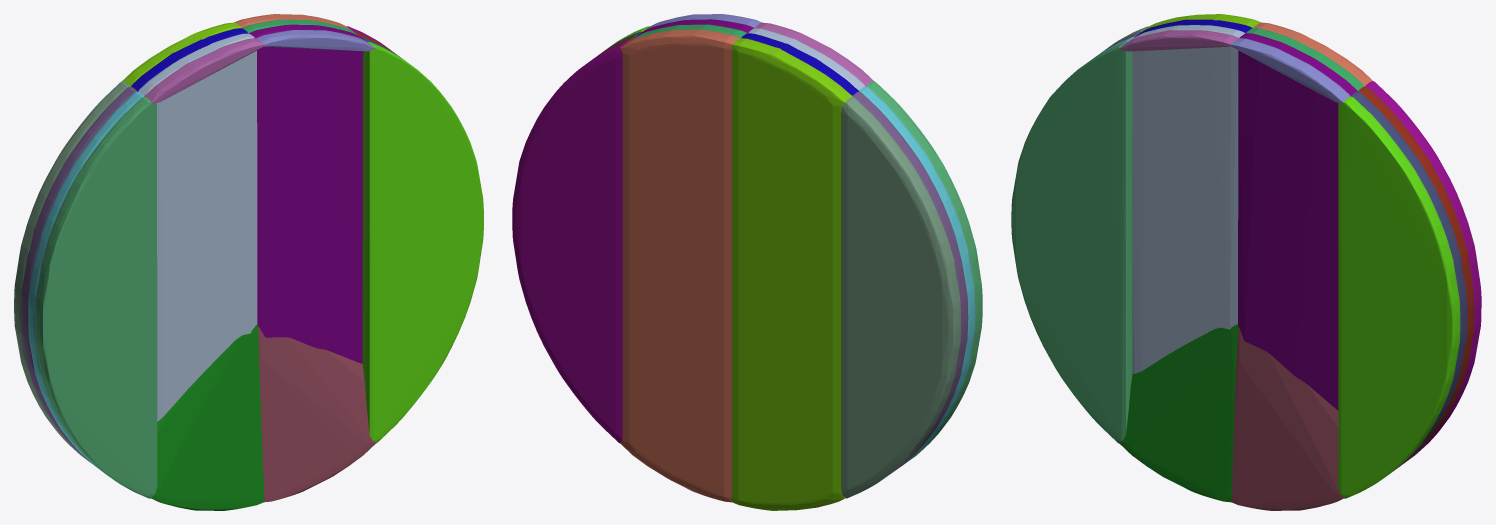
Rendered from forearm_0_split.obj.
The picture shows the model from 3 angles, left to right: view 1: azimuth 30°, elevation 25°; view 2: azimuth 150°, elevation 25°; view 3: azimuth 330°, elevation 25°; orthographic projection.
Parts seen in each view (by area): view 1: geometry_3, geometry_17, geometry_11, geometry_6, geometry_8, geometry_13, geometry_0, geometry_2, geometry_1, geometry_7, geometry_12, geometry_4 (+3 smaller); view 2: geometry_4, geometry_9, geometry_0, geometry_14, geometry_3, geometry_2, geometry_1, geometry_7, geometry_5, geometry_6, geometry_12, geometry_11 (+1 smaller); view 3: geometry_17, geometry_3, geometry_6, geometry_11, geometry_13, geometry_8, geometry_14, geometry_15, geometry_16, geometry_12, geometry_7, geometry_9 (+3 smaller).
Boxes of the visible parts, bbox=[...] form: geometry_3: bbox=[35, 96, 157, 498]; geometry_17: bbox=[362, 42, 483, 443]; geometry_11: bbox=[248, 24, 366, 363]; geometry_6: bbox=[138, 33, 257, 421]; geometry_8: bbox=[151, 324, 264, 510]; geometry_13: bbox=[258, 326, 375, 502]; geometry_0: bbox=[14, 81, 129, 458]; geometry_2: bbox=[28, 91, 143, 468]; geometry_1: bbox=[21, 86, 136, 463]; geometry_7: bbox=[144, 38, 263, 103]; geometry_12: bbox=[256, 30, 375, 51]; geometry_4: bbox=[122, 22, 241, 86]; geometry_4: bbox=[732, 38, 852, 510]; geometry_9: bbox=[620, 29, 740, 502]; geometry_0: bbox=[841, 97, 960, 498]; geometry_14: bbox=[512, 42, 627, 443]; geometry_3: bbox=[866, 81, 982, 459]; geometry_2: bbox=[859, 86, 975, 464]; geometry_1: bbox=[852, 91, 968, 469]; geometry_7: bbox=[755, 22, 873, 86]; geometry_5: bbox=[741, 33, 859, 95]; geometry_6: bbox=[748, 28, 864, 90]; geometry_12: bbox=[644, 14, 761, 30]; geometry_11: bbox=[637, 19, 754, 35]; geometry_17: bbox=[1338, 96, 1460, 498]; geometry_3: bbox=[1011, 42, 1132, 443]; geometry_6: bbox=[1130, 25, 1245, 373]; geometry_11: bbox=[1238, 33, 1357, 410]; geometry_13: bbox=[1231, 327, 1344, 510]; geometry_8: bbox=[1119, 324, 1238, 502]; geometry_14: bbox=[1365, 81, 1481, 458]; geometry_15: bbox=[1358, 86, 1474, 463]; geometry_16: bbox=[1351, 91, 1467, 468]; geometry_12: bbox=[1231, 38, 1350, 103]; geometry_7: bbox=[1119, 30, 1238, 51]; geometry_9: bbox=[1253, 22, 1373, 86].
Bounding box in the file's own units: 137 × 137 × 17.04.
